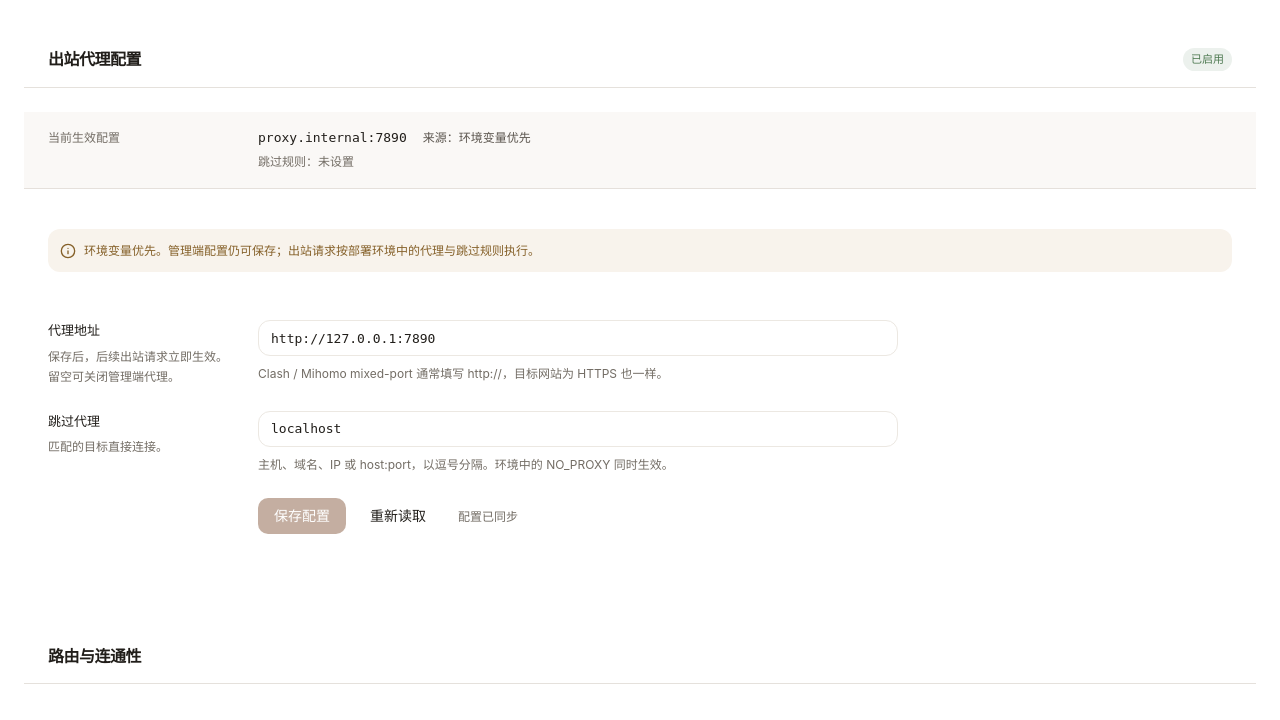
it: 代理设置的生效配置与诊断状态 › 草稿修改不改变生效地址；保存环境覆盖配置后仍显示环境来源
The width and height of the screenshot is (1280, 720).
Expected: the button "保存配置" is disabled, 258,498 -> 346,534
Type "http://127.0.0.1:7891" into the field labelled "代理地址" at (578, 338), box 258,320 -> 898,356
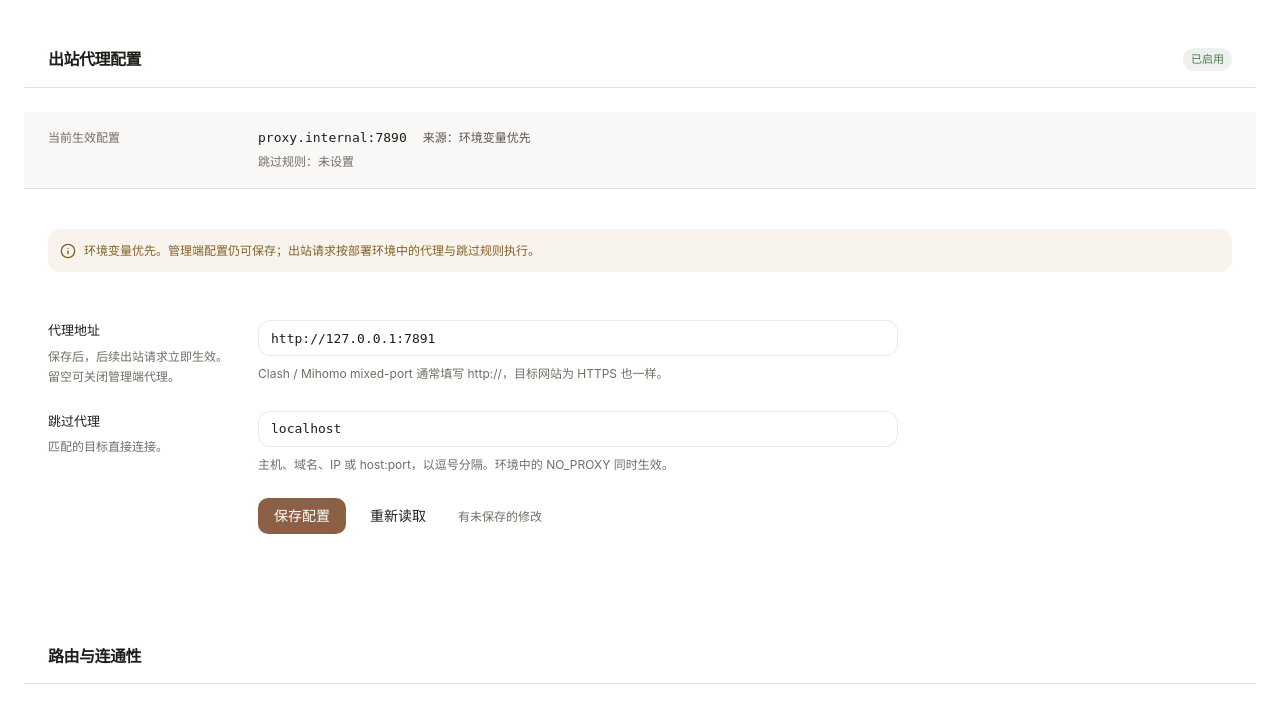
Expected: the text "proxy.internal:7890" is shown, 258,128 -> 407,148
Result: the text "有未保存的修改" is shown at 458,509 -> 542,524
Click the button "保存配置" at (302, 516), box 258,498 -> 346,534
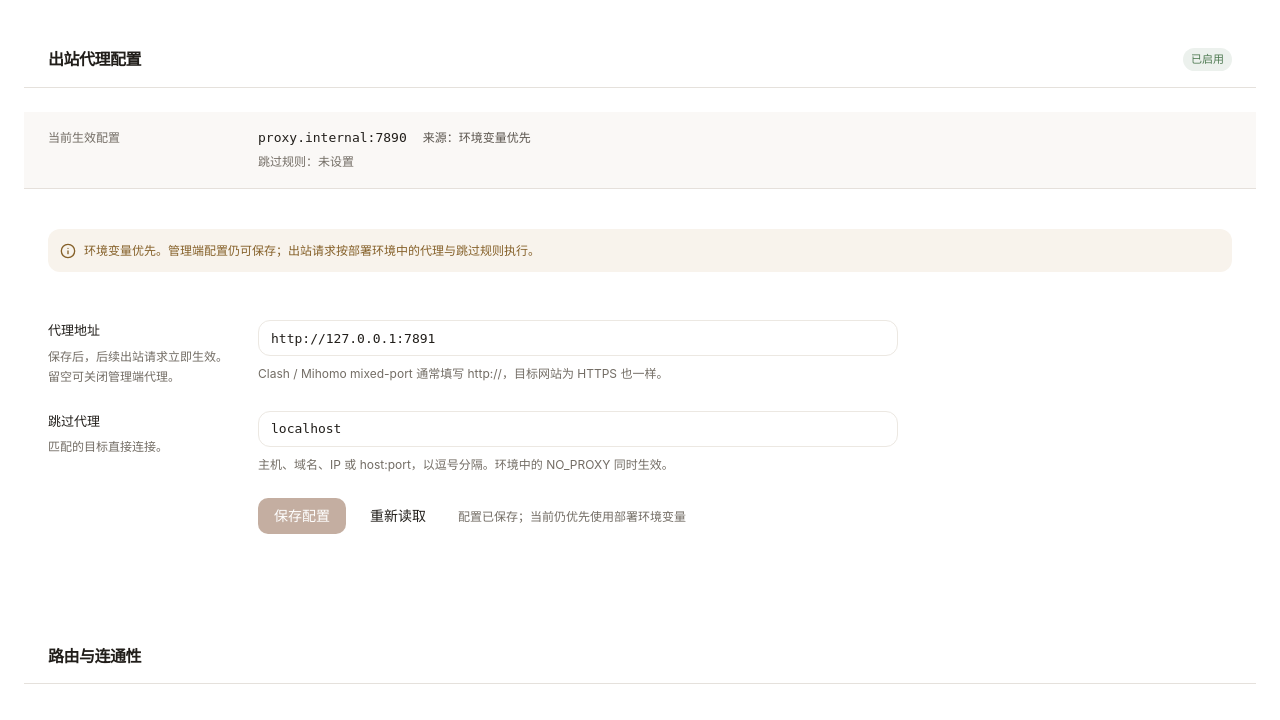
Expected: the text "proxy.internal:7890" is shown, 258,128 -> 407,148
Result: the text "配置已保存；当前仍优先使用部署环境变量" is shown at 458,509 -> 686,524
